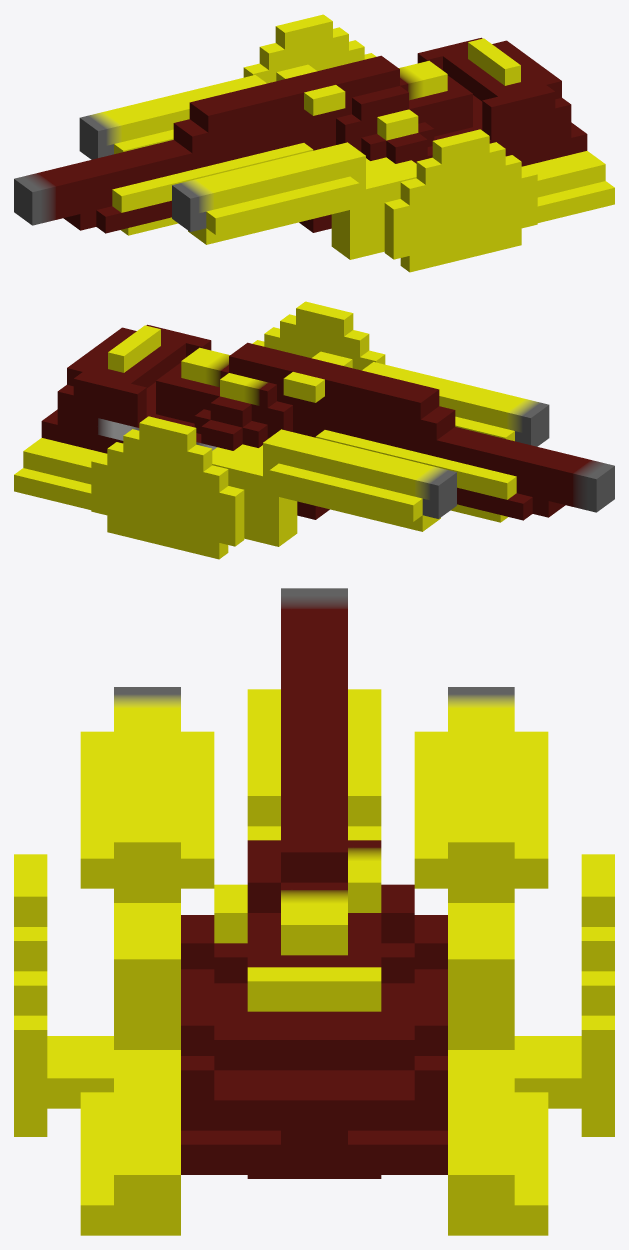
File: Player_7.fbx
The picture shows the model from 3 angles, top to bottom: view 1: azimuth 30°, elevation 25°; view 2: azimuth 150°, elevation 25°; view 3: azimuth 270°, elevation 25°; orthographic projection. The views are drawn at different scales.
Parts seen in each view (by area): view 1: Player_7; view 2: Player_7; view 3: Player_7.
Boxes of the visible parts, x1=… form: Player_7: x1=14, y1=14, x2=614, y2=272; Player_7: x1=14, y1=301, x2=614, y2=559; Player_7: x1=14, y1=588, x2=614, y2=1235.
Bounding box in the file's own units: 33 × 8 × 18.
1 material, 1 textured.
